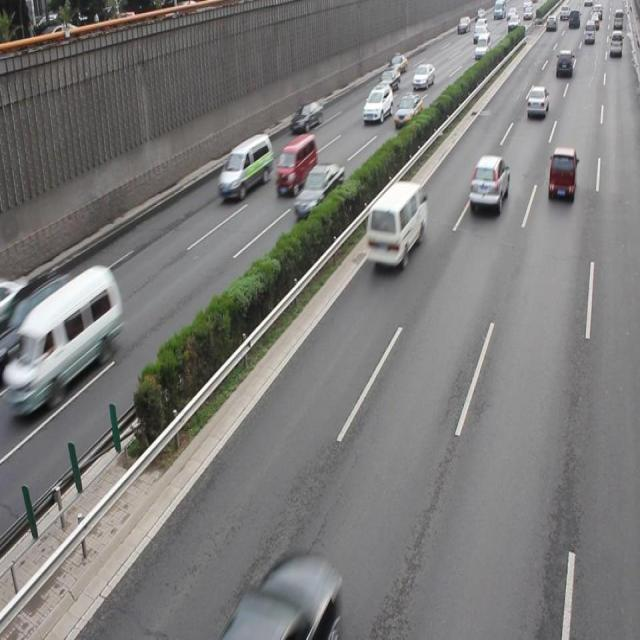car: (230, 553, 335, 640), (293, 161, 344, 219), (467, 153, 508, 214), (547, 146, 575, 202), (362, 84, 392, 125), (392, 92, 422, 128), (289, 100, 322, 132)
truck: (20, 262, 120, 412), (365, 180, 427, 268), (218, 133, 273, 200), (276, 134, 316, 198)
